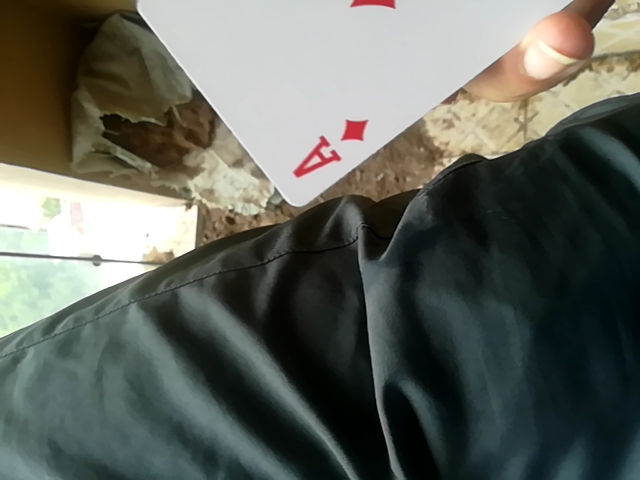fk a: (106, 0, 634, 210)
